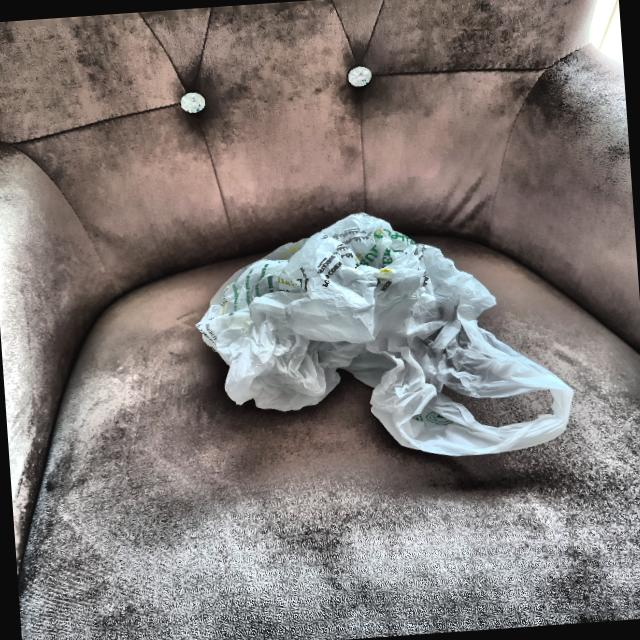plastic bag: (194, 195, 570, 472)
